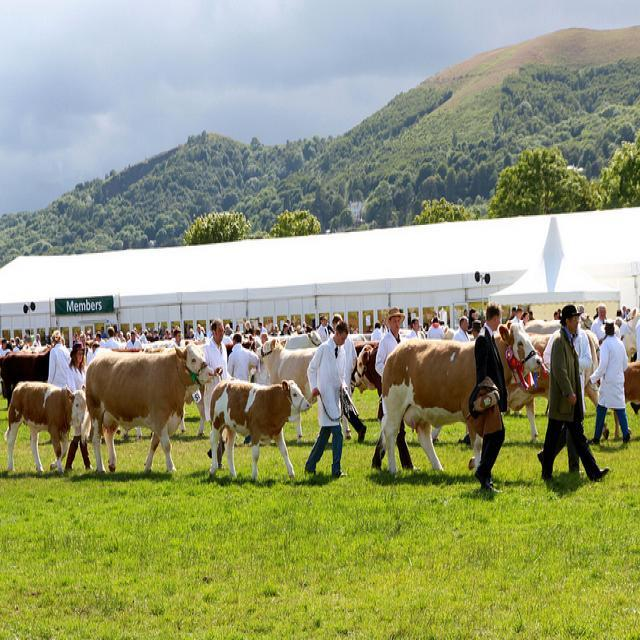cow: (381, 317, 542, 475), (84, 339, 214, 471), (504, 327, 608, 440), (208, 376, 309, 481), (3, 379, 86, 471), (256, 338, 318, 398), (353, 341, 383, 418), (612, 359, 639, 439), (621, 306, 639, 355), (283, 328, 321, 348), (524, 317, 559, 331)
